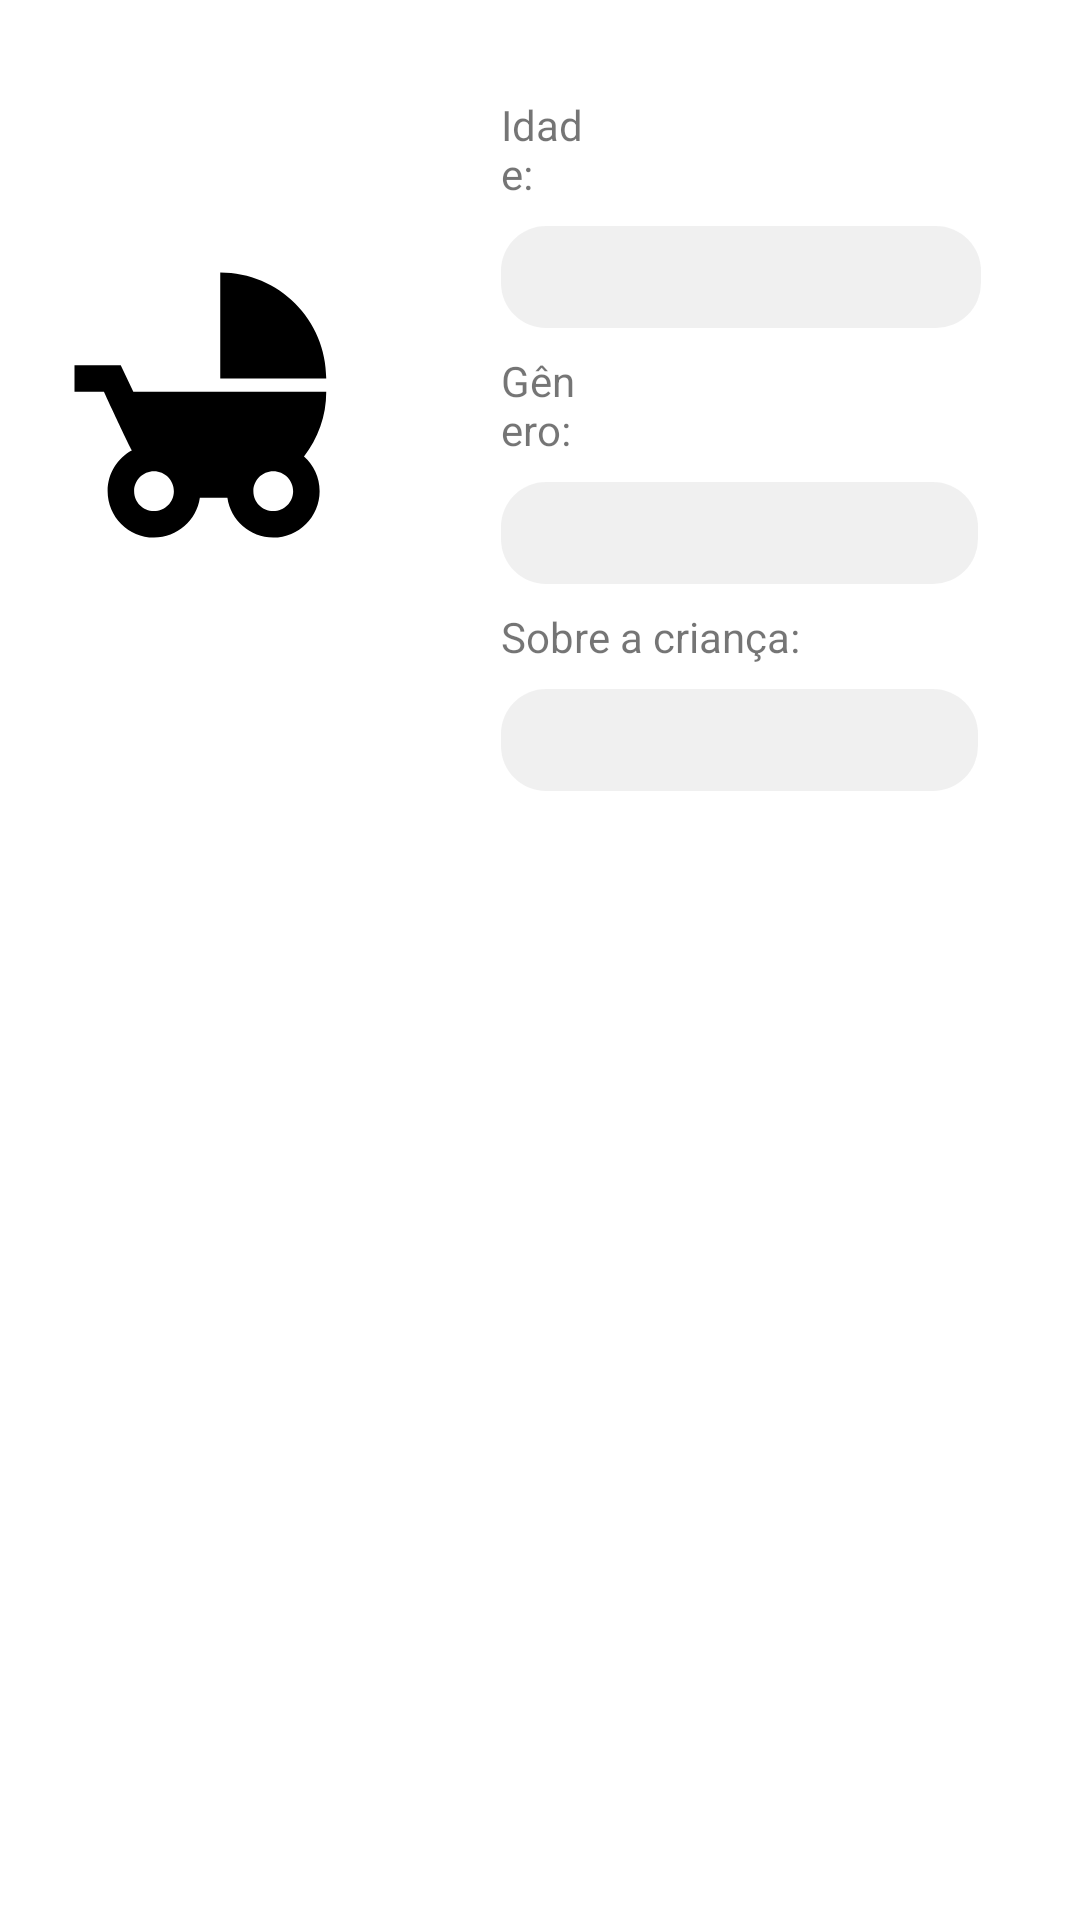

Named icons in this screenshot (1080x1920) and their bounding boxes, [x1=x1, y1=y1, x2=x2, y2=y2]:
ivkid: [x1=74, y1=272, x2=327, y2=538]
